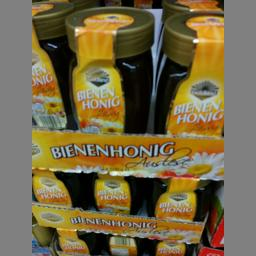honey: (55, 6, 152, 132), (156, 10, 226, 132), (145, 178, 209, 220), (87, 172, 142, 214), (33, 168, 82, 213)
